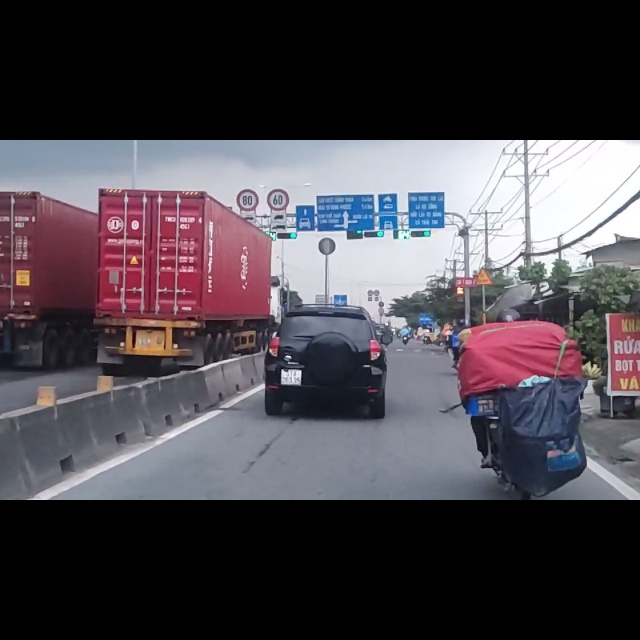bien_cam: (235, 87, 260, 128), (267, 85, 291, 127), (475, 225, 492, 257)
